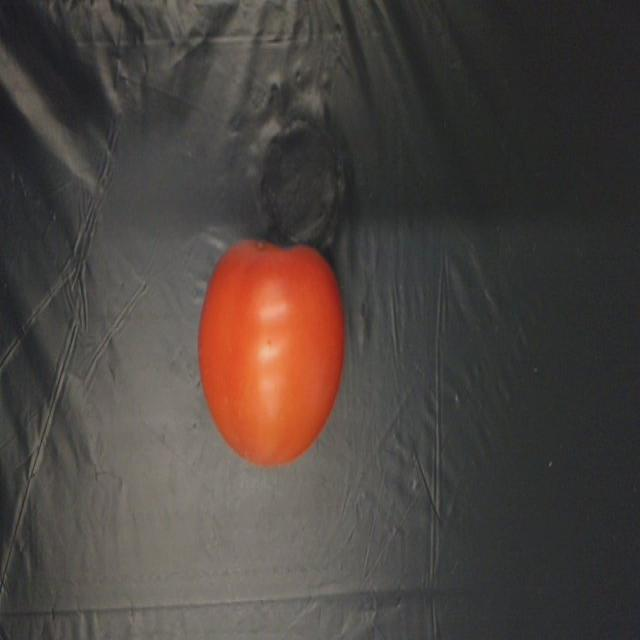sari: (167, 242, 367, 482)
